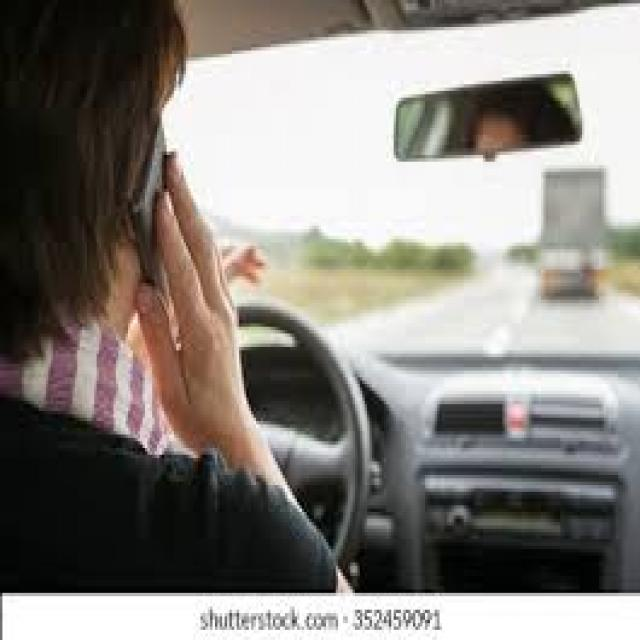Cellphone_calling: (102, 111, 251, 445)
